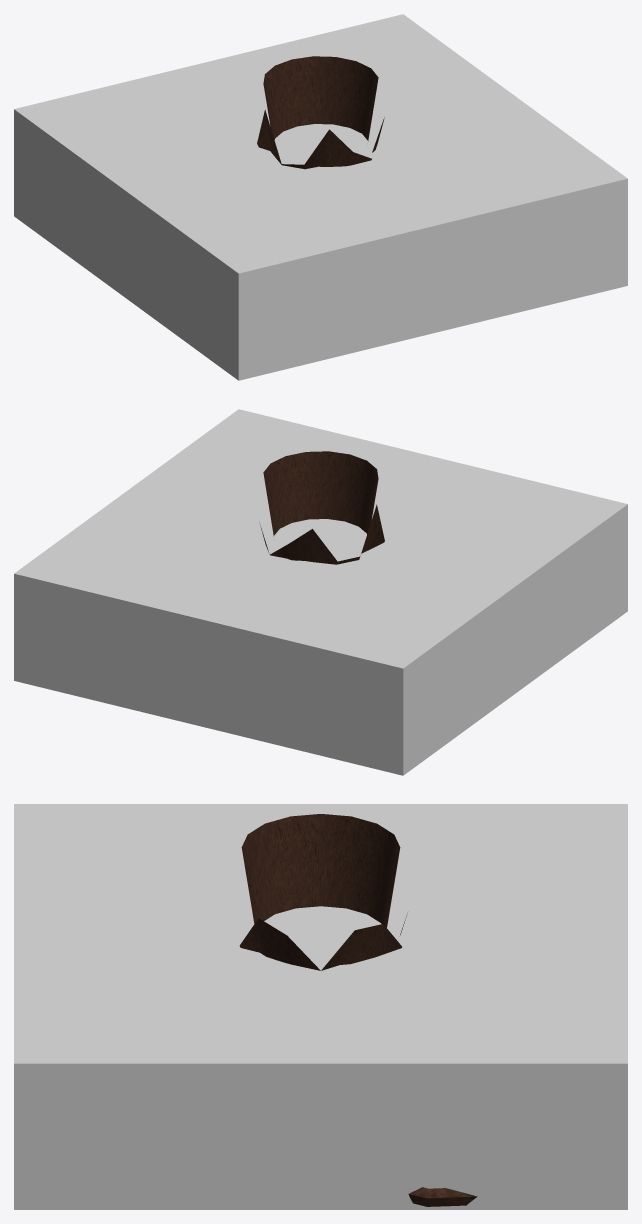
File: urn_c_broken.glb
3 views of the same model, one above another, from view 1: azimuth 30°, elevation 25°; view 2: azimuth 150°, elevation 25°; view 3: azimuth 270°, elevation 25° (orthographic). The views are drawn at different scales.
Parts seen in each view (by area): view 1: col_click, urn_c_broken; view 2: col_click, urn_c_broken; view 3: col_click, urn_c_broken.
Part boxes in pixels (bbox=[...]): col_click: bbox=[14, 14, 627, 380]; urn_c_broken: bbox=[257, 56, 384, 169]; col_click: bbox=[14, 409, 627, 775]; urn_c_broken: bbox=[259, 451, 384, 564]; col_click: bbox=[14, 804, 627, 1209]; urn_c_broken: bbox=[239, 814, 477, 1206].
Bounding box in the file's own units: 1.17 × 0.5041 × 1.14.
2 materials, 2 textured.
